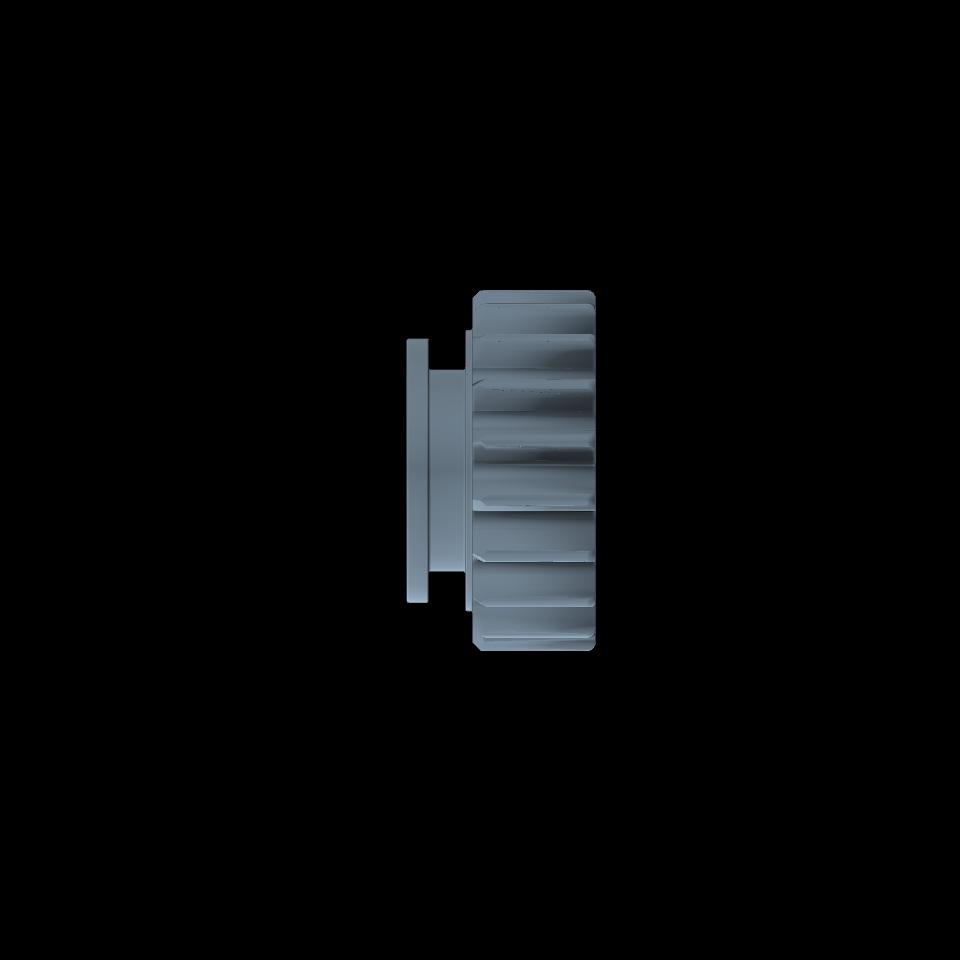Straight: (482, 290, 589, 651)
